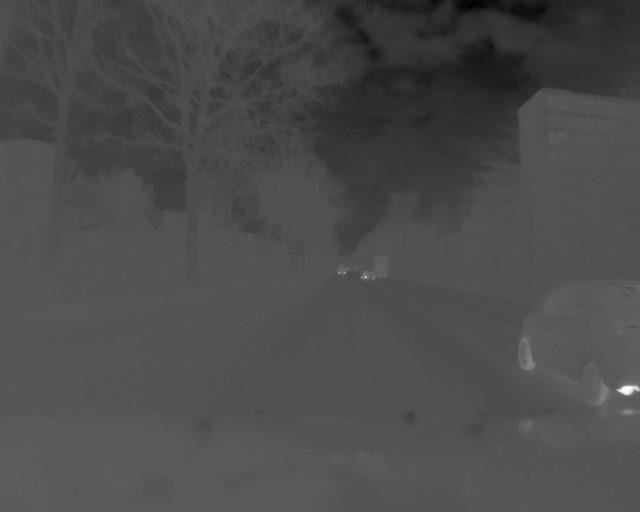car: (515, 281, 638, 407), (371, 255, 390, 278)
